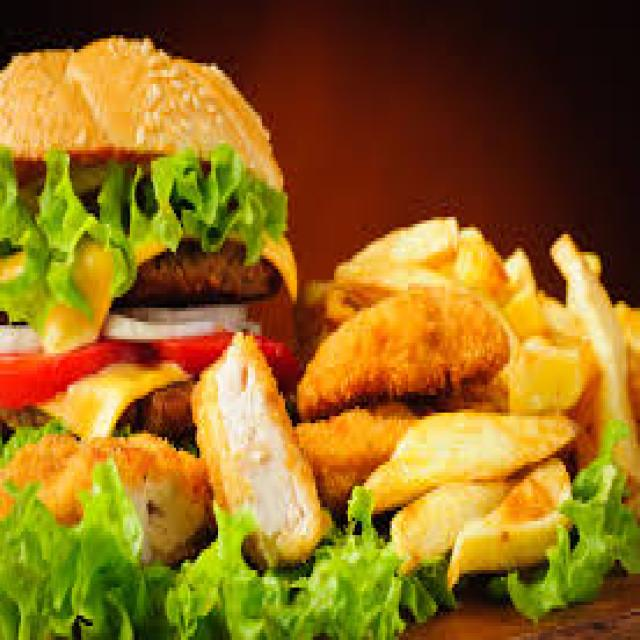organic: (13, 30, 306, 398), (325, 186, 592, 322), (328, 302, 499, 441)
